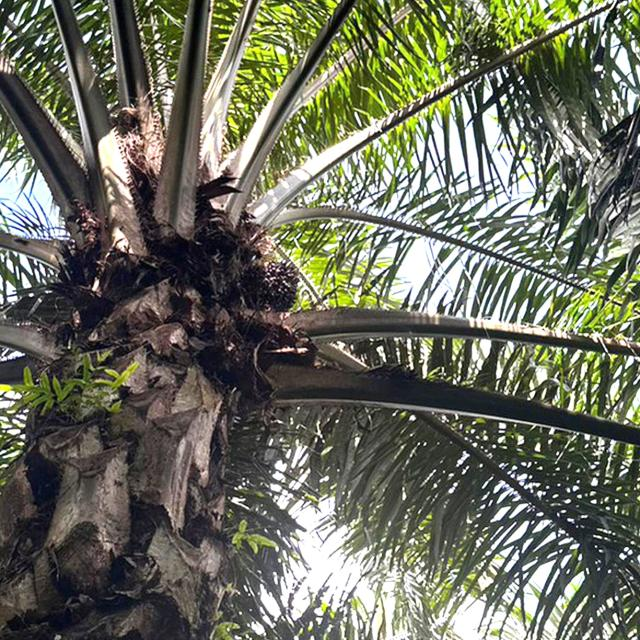almost: (248, 256, 302, 316)
